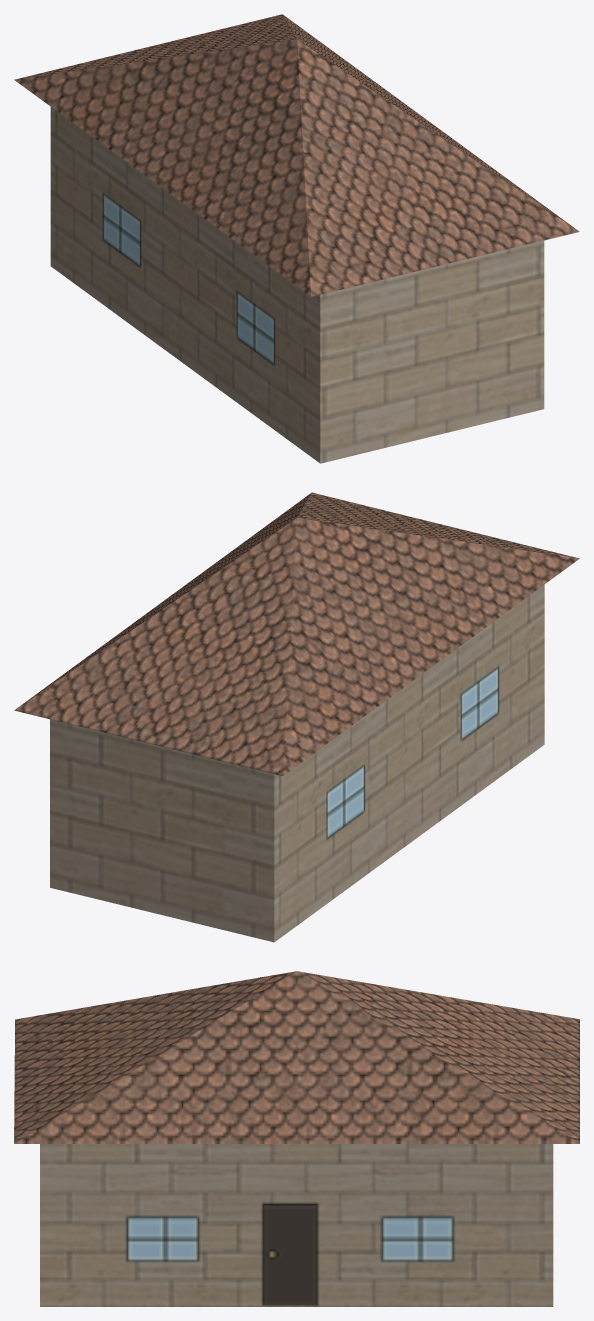
File: House V3.fbx
The picture shows the model from 3 angles, top to bottom: view 1: azimuth 30°, elevation 25°; view 2: azimuth 150°, elevation 25°; view 3: azimuth 270°, elevation 25°; orthographic projection. The views are drawn at different scales.
Visible parts, largest first — view 1: Cube; view 2: Cube; view 3: Cube.
Part boxes in pixels (bbox=[...]): Cube: bbox=[14, 14, 579, 463]; Cube: bbox=[14, 492, 579, 942]; Cube: bbox=[14, 971, 579, 1306].
Size of the model in its own units: 240 by 254 by 460.
